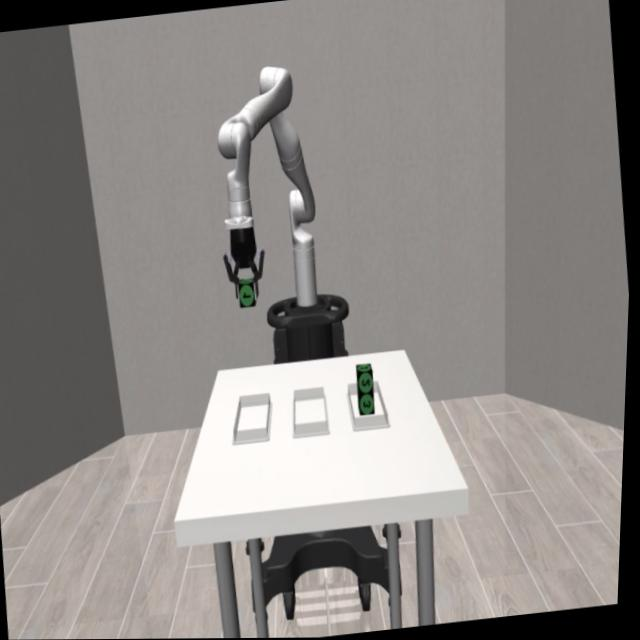cube1: (238, 277, 261, 307)
cube2: (357, 359, 379, 395)
cube3: (359, 391, 378, 418)
